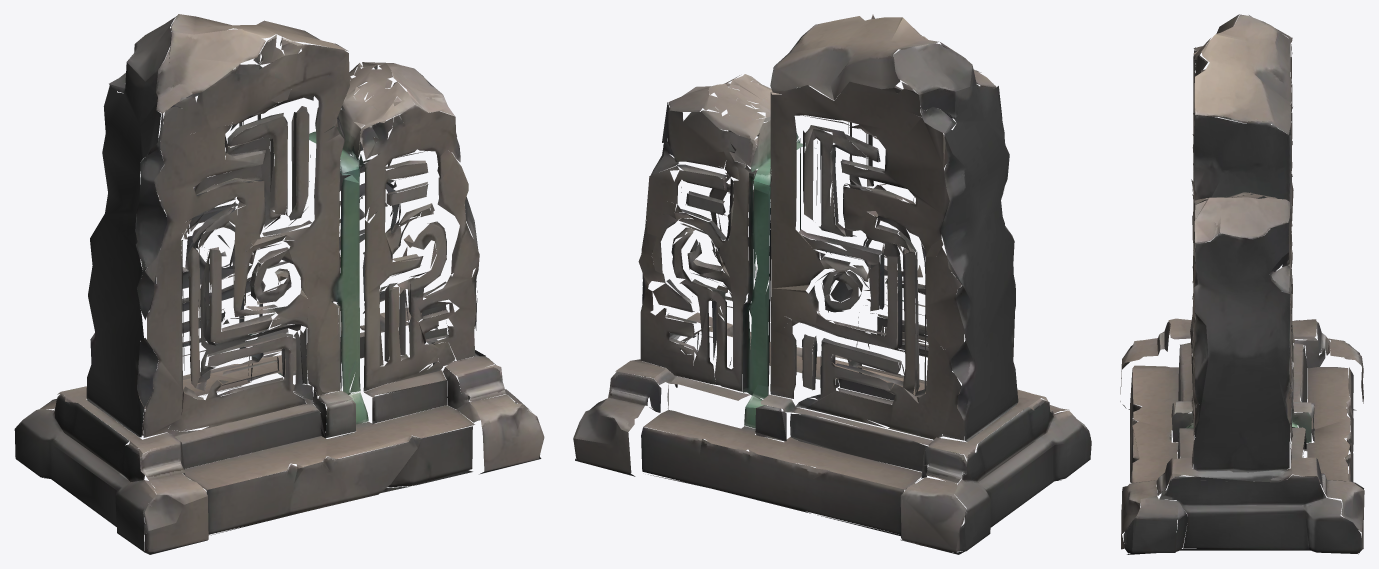
The model's file is sealMonolith.glb.
The picture shows the model from 3 angles, left to right: view 1: azimuth 30°, elevation 25°; view 2: azimuth 150°, elevation 25°; view 3: azimuth 270°, elevation 25°; orthographic projection. The views are drawn at different scales.
Visible parts, largest first — view 1: Prop_sealMonolith; view 2: Prop_sealMonolith; view 3: Prop_sealMonolith.
Part boxes in pixels (x1,y1,x2,y2): Prop_sealMonolith: [14, 14, 544, 554]; Prop_sealMonolith: [573, 14, 1091, 554]; Prop_sealMonolith: [1120, 14, 1364, 554].
Size of the model in its own units: 5.54 by 6.02 by 3.25.
Materials: 1 (1 with a texture image).
